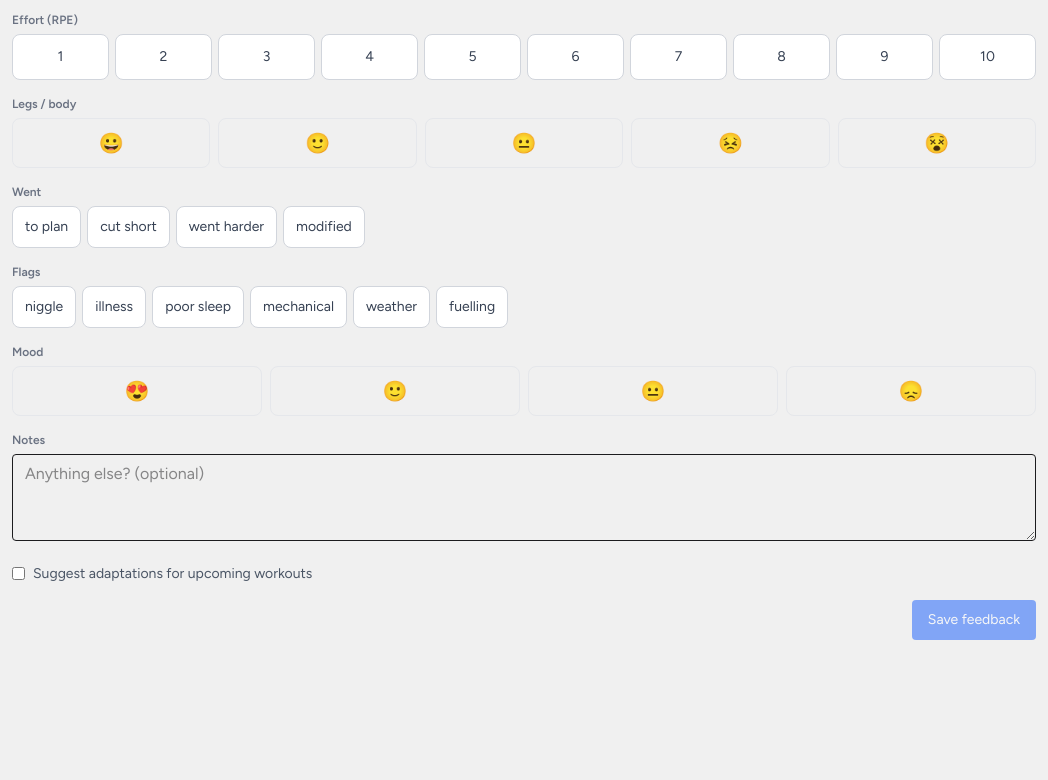
Scenario: WorkoutFeedbackTab › submits POST to /api/feedback and transitions to saved phase
Step 1. Click the button named "RPE 8" → (782, 57), box [733,34,830,80]
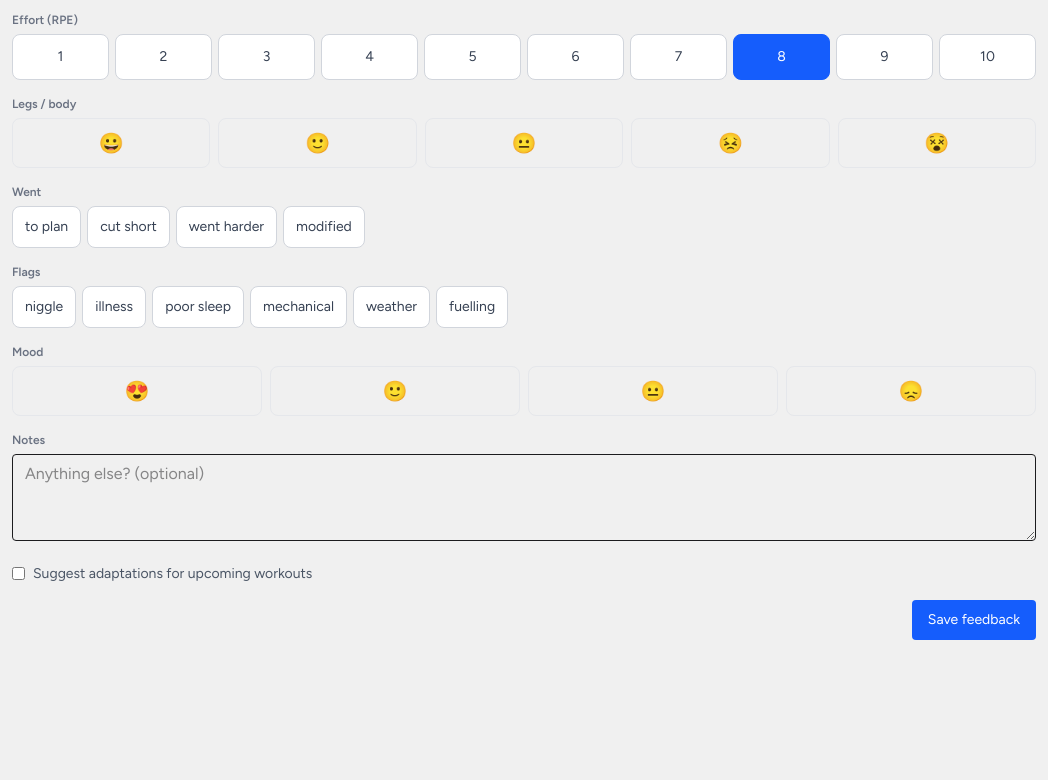
Step 2. Click the button "Save feedback" → (974, 620), box [912,600,1036,640]
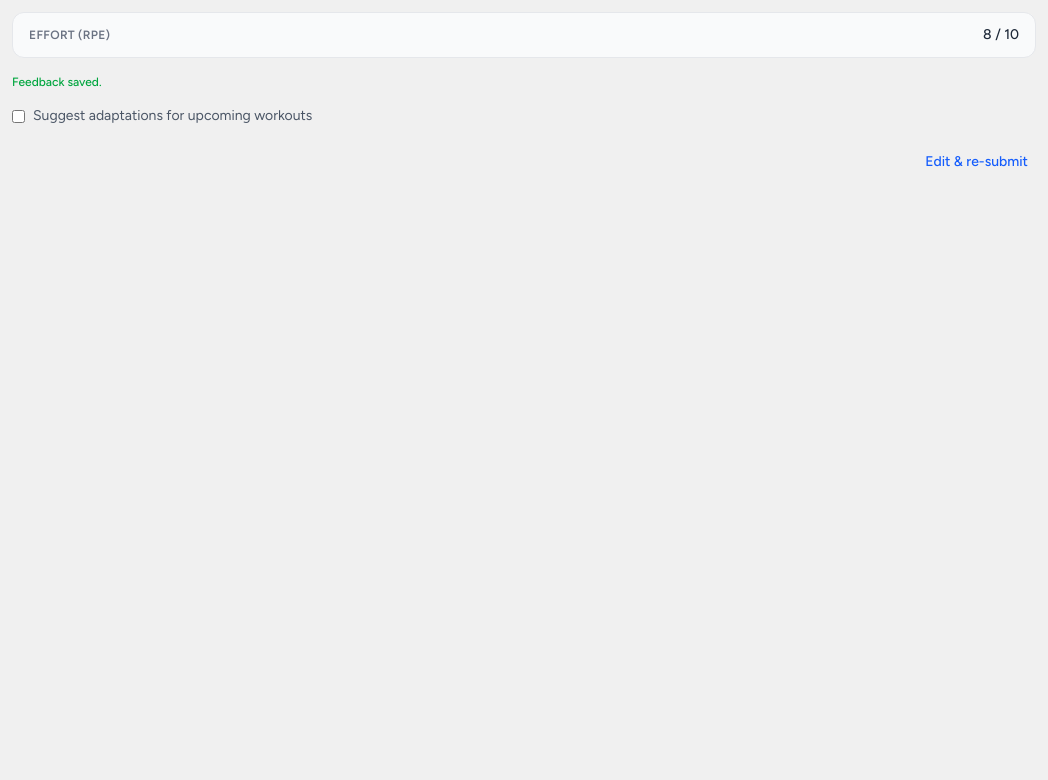
Now the text "Feedback saved." is shown, box [12,75,102,89]
